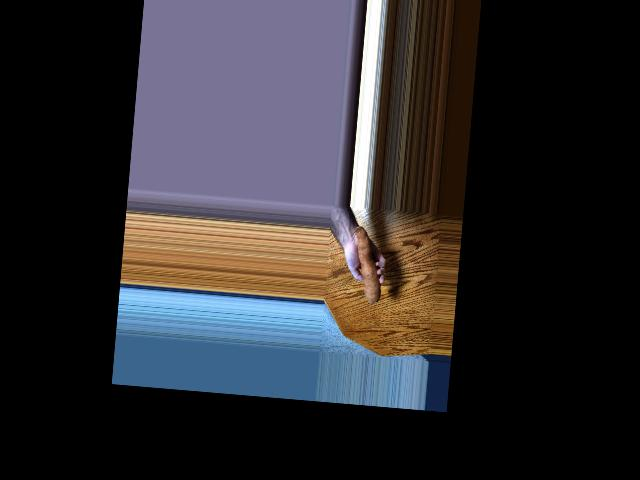sweet_potato: (353, 230, 387, 300)
